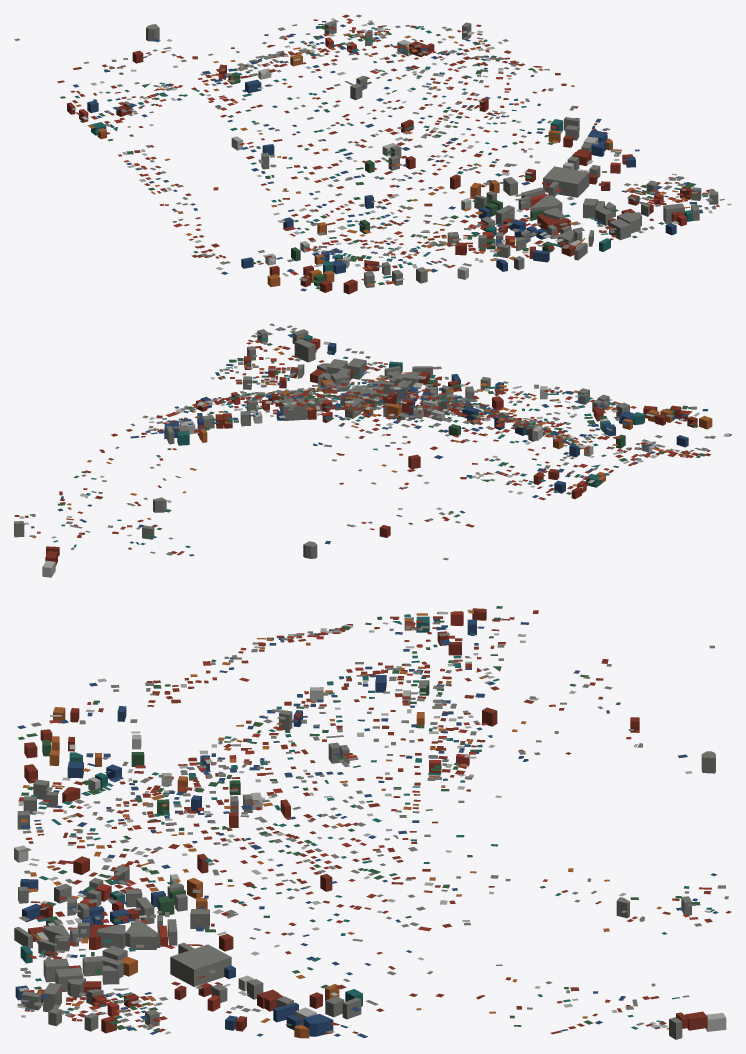
The model's file is far-15-27360-14867.e1b00539.glb.
3 renders of one model, top to bottom at view 1: azimuth 30°, elevation 25°; view 2: azimuth 150°, elevation 25°; view 3: azimuth 270°, elevation 25°, orthographic. The views are drawn at different scales.
Bounding box in the file's own units: 1185 × 320 × 1179.
